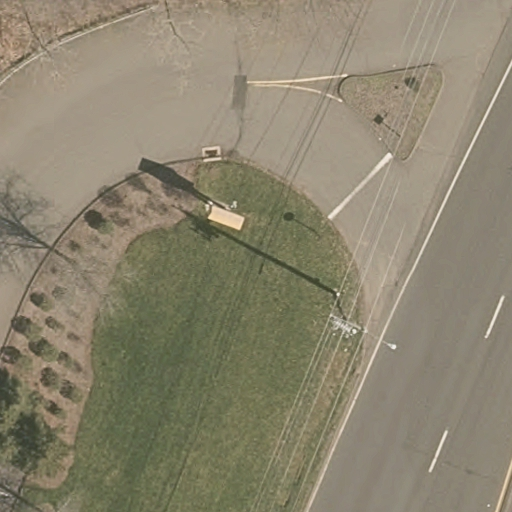DT: (316, 291, 402, 366)
